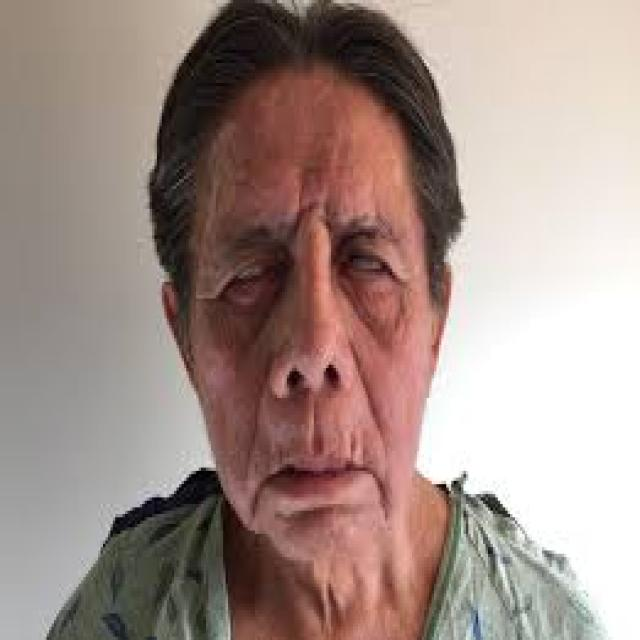stroke_face: (172, 30, 455, 596)
